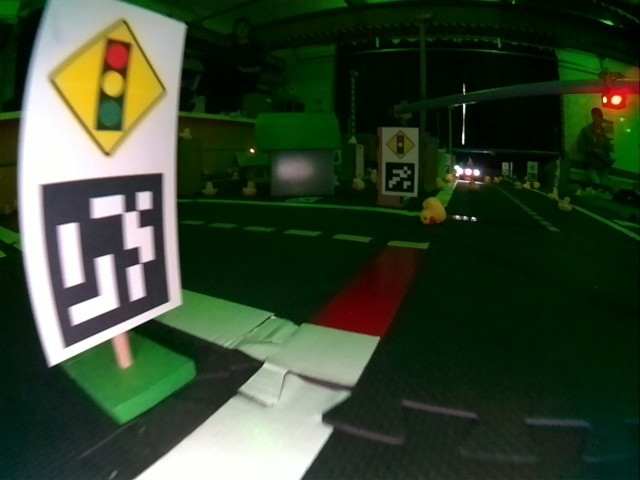Duckie: (420, 197, 446, 223), (351, 177, 365, 190), (203, 183, 217, 194), (245, 182, 256, 194), (559, 198, 568, 211), (468, 179, 476, 189), (516, 182, 523, 190)
Duckiebot: (458, 166, 481, 180)
QR code: (38, 174, 169, 349), (382, 167, 416, 193)
Signal sign: (43, 13, 170, 162), (385, 129, 416, 158)
Traffic light: (600, 72, 625, 108)
